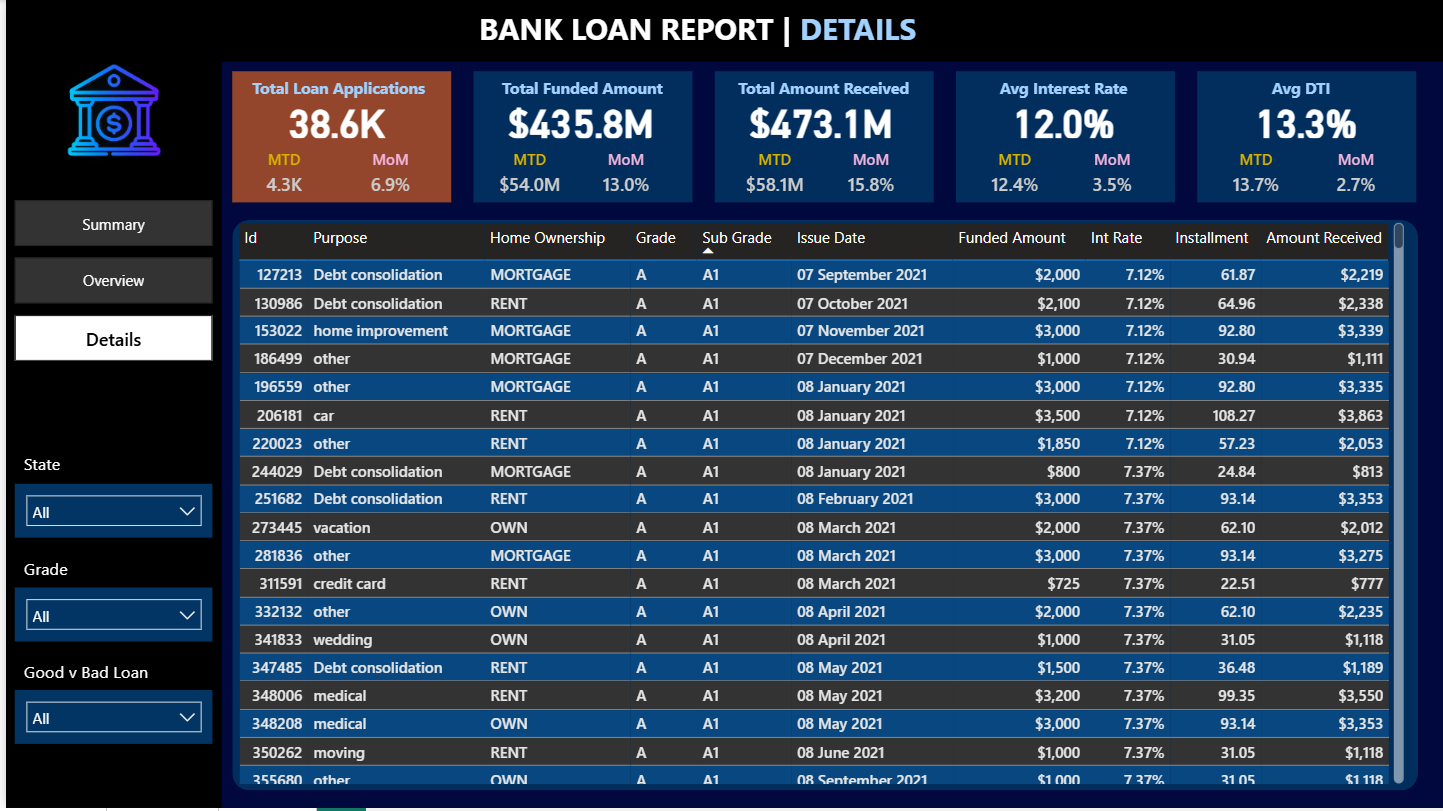

What the dashboard file says about the page in this screenshot:
{"tool":"powerbi","page":{"name":"Details","canvas":[1280,720],"ordinal":2},"visuals":[{"type":"shape","box":[0,0,1280,55],"z":0},{"type":"shape","box":[0,55,192,665],"z":1000},{"type":"textbox","box":[416,2,448,48],"z":2000},{"type":"shape","box":[202,64,195,117],"z":3000},{"type":"cardVisual","fields":{"Data":["bank_loan_data.Total Loan Application"]},"box":[224,89,142,39],"z":4000},{"type":"textbox","box":[208,64,176,32],"z":5000},{"type":"cardVisual","title":"MTD","fields":{"Data":["bank_loan_data.MTD Loan Applications"]},"box":[224,133,48,48],"z":6000},{"type":"cardVisual","title":"MoM","fields":{"Data":["bank_loan_data.MoM Loan Application"]},"box":[318,132,48,48],"z":7000},{"type":"shape","box":[416.8,64,195,117],"z":8000},{"type":"textbox","box":[425,64,176,32],"z":9000},{"type":"cardVisual","fields":{"Data":["bank_loan_data.Total Funded Amount"]},"box":[442,89,140,39],"z":10000},{"type":"cardVisual","title":"MTD","fields":{"Data":["bank_loan_data.MTD Funded Amount"]},"box":[432,132,69,48],"z":11000},{"type":"cardVisual","title":"MoM","fields":{"Data":["bank_loan_data.MoM Total Funded Amount"]},"box":[518,132,69,48],"z":12000},{"type":"shape","box":[631.5,64,195,117],"z":13000},{"type":"textbox","box":[640,64,176,32],"z":14000},{"type":"cardVisual","fields":{"Data":["bank_loan_data.Total Amount Received"]},"box":[656,89,140,39],"z":15000},{"type":"cardVisual","title":"MTD","fields":{"Data":["bank_loan_data.MTD Total Amount Recived"]},"box":[650,132,69,48],"z":16000},{"type":"cardVisual","title":"MoM","fields":{"Data":["bank_loan_data.MoM Total Amount Recived"]},"box":[736,132,69,48],"z":17000},{"type":"shape","box":[846.2,64,195,117],"z":18000},{"type":"shape","box":[1061,64,195,117],"z":19000},{"type":"textbox","box":[854,64,176,32],"z":20000},{"type":"cardVisual","fields":{"Data":["bank_loan_data.Avg Interest Rate"]},"box":[872,89,140,39],"z":21000},{"type":"cardVisual","title":"MoM","fields":{"Data":["bank_loan_data.MoM Avg Int Rate"]},"box":[951,132,69,48],"z":22000},{"type":"cardVisual","title":"MTD","fields":{"Data":["bank_loan_data.MTD Avg Int Amount"]},"box":[864,132,69,48],"z":23000},{"type":"textbox","box":[1065,64,176,32],"z":24000},{"type":"cardVisual","fields":{"Data":["bank_loan_data.Avg DTI"]},"box":[1088,89,140,39],"z":25000},{"type":"cardVisual","title":"MTD","fields":{"Data":["bank_loan_data.MTD Avg DTI"]},"box":[1079,132,69,48],"z":26000},{"type":"cardVisual","title":"MoM","fields":{"Data":["bank_loan_data.MoM Avg DTI"]},"box":[1168,132,69,48],"z":27000},{"type":"shape","box":[202,196,1056,508],"z":28000},{"type":"slicer","fields":{"Values":["bank_loan_data.address_state"]},"box":[8,431,176,48],"z":29000},{"type":"textbox","box":[11,397,64,32],"z":30000},{"type":"slicer","fields":{"Values":["bank_loan_data.grade"]},"box":[8,523,176,48],"z":31000},{"type":"textbox","box":[11,491,64,32],"z":32000},{"type":"slicer","fields":{"Values":["bank_loan_data.Good v Bad Loan"]},"box":[8,615,176,48],"z":33000},{"type":"textbox","box":[11,583,144,32],"z":34000},{"type":"tableEx","fields":{"Values":["bank_loan_data.id","bank_loan_data.purpose","bank_loan_data.home_ownership","bank_loan_data.grade","bank_loan_data.sub_grade","bank_loan_data.issue_date","bank_loan_data.Total Funded Amount","Sum(bank_loan_data.int_rate)","Sum(bank_loan_data.installment)","bank_loan_data.Total Amount Received"]},"box":[201,194,1048,509],"z":35000},{"type":"image","box":[32,41,128,112],"z":36000},{"type":"pageNavigator","box":[8,178,176,144],"z":37000}]}

Visuals, with their boxes in screenshot pixels (x1, y1, x2, y2), scaled from the page's 1280x720 canvas onto the 1443x811 screenshot:
shape: bbox=[0, 0, 1442, 62]
shape: bbox=[0, 62, 216, 810]
textbox: bbox=[469, 2, 974, 56]
shape: bbox=[228, 72, 448, 204]
cardVisual - bank_loan_data.Total Loan Application: bbox=[253, 100, 413, 144]
textbox: bbox=[234, 72, 433, 108]
"MTD" cardVisual: bbox=[253, 150, 307, 204]
"MoM" cardVisual: bbox=[358, 149, 413, 203]
shape: bbox=[470, 72, 690, 204]
textbox: bbox=[479, 72, 678, 108]
cardVisual - bank_loan_data.Total Funded Amount: bbox=[498, 100, 656, 144]
"MTD" cardVisual: bbox=[487, 149, 565, 203]
"MoM" cardVisual: bbox=[584, 149, 662, 203]
shape: bbox=[712, 72, 932, 204]
textbox: bbox=[722, 72, 920, 108]
cardVisual - bank_loan_data.Total Amount Received: bbox=[740, 100, 897, 144]
"MTD" cardVisual: bbox=[733, 149, 811, 203]
"MoM" cardVisual: bbox=[830, 149, 908, 203]
shape: bbox=[954, 72, 1174, 204]
shape: bbox=[1196, 72, 1416, 204]
textbox: bbox=[963, 72, 1161, 108]
cardVisual - bank_loan_data.Avg Interest Rate: bbox=[983, 100, 1141, 144]
"MoM" cardVisual: bbox=[1072, 149, 1150, 203]
"MTD" cardVisual: bbox=[974, 149, 1052, 203]
textbox: bbox=[1201, 72, 1399, 108]
cardVisual - bank_loan_data.Avg DTI: bbox=[1227, 100, 1384, 144]
"MTD" cardVisual: bbox=[1216, 149, 1294, 203]
"MoM" cardVisual: bbox=[1317, 149, 1395, 203]
shape: bbox=[228, 221, 1418, 793]
slicer - bank_loan_data.address_state: bbox=[9, 485, 207, 540]
textbox: bbox=[12, 447, 85, 483]
slicer - bank_loan_data.grade: bbox=[9, 589, 207, 643]
textbox: bbox=[12, 553, 85, 589]
slicer - bank_loan_data.Good v Bad Loan: bbox=[9, 693, 207, 747]
textbox: bbox=[12, 657, 175, 693]
tableEx - bank_loan_data.id x bank_loan_data.purpose: bbox=[227, 219, 1408, 792]
image: bbox=[36, 46, 180, 172]
pageNavigator: bbox=[9, 200, 207, 363]
